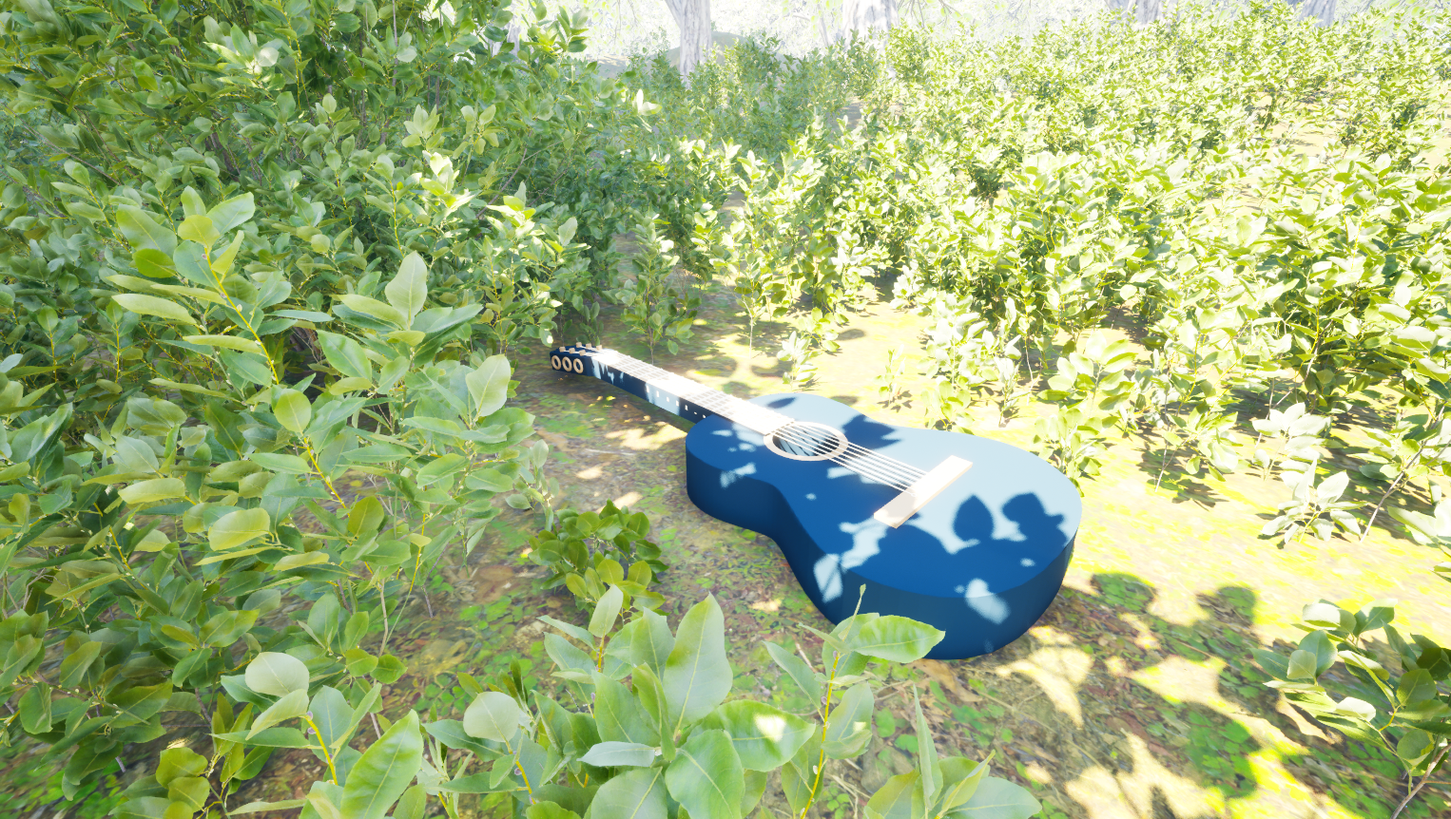Guitar: (467, 317, 1119, 713)
